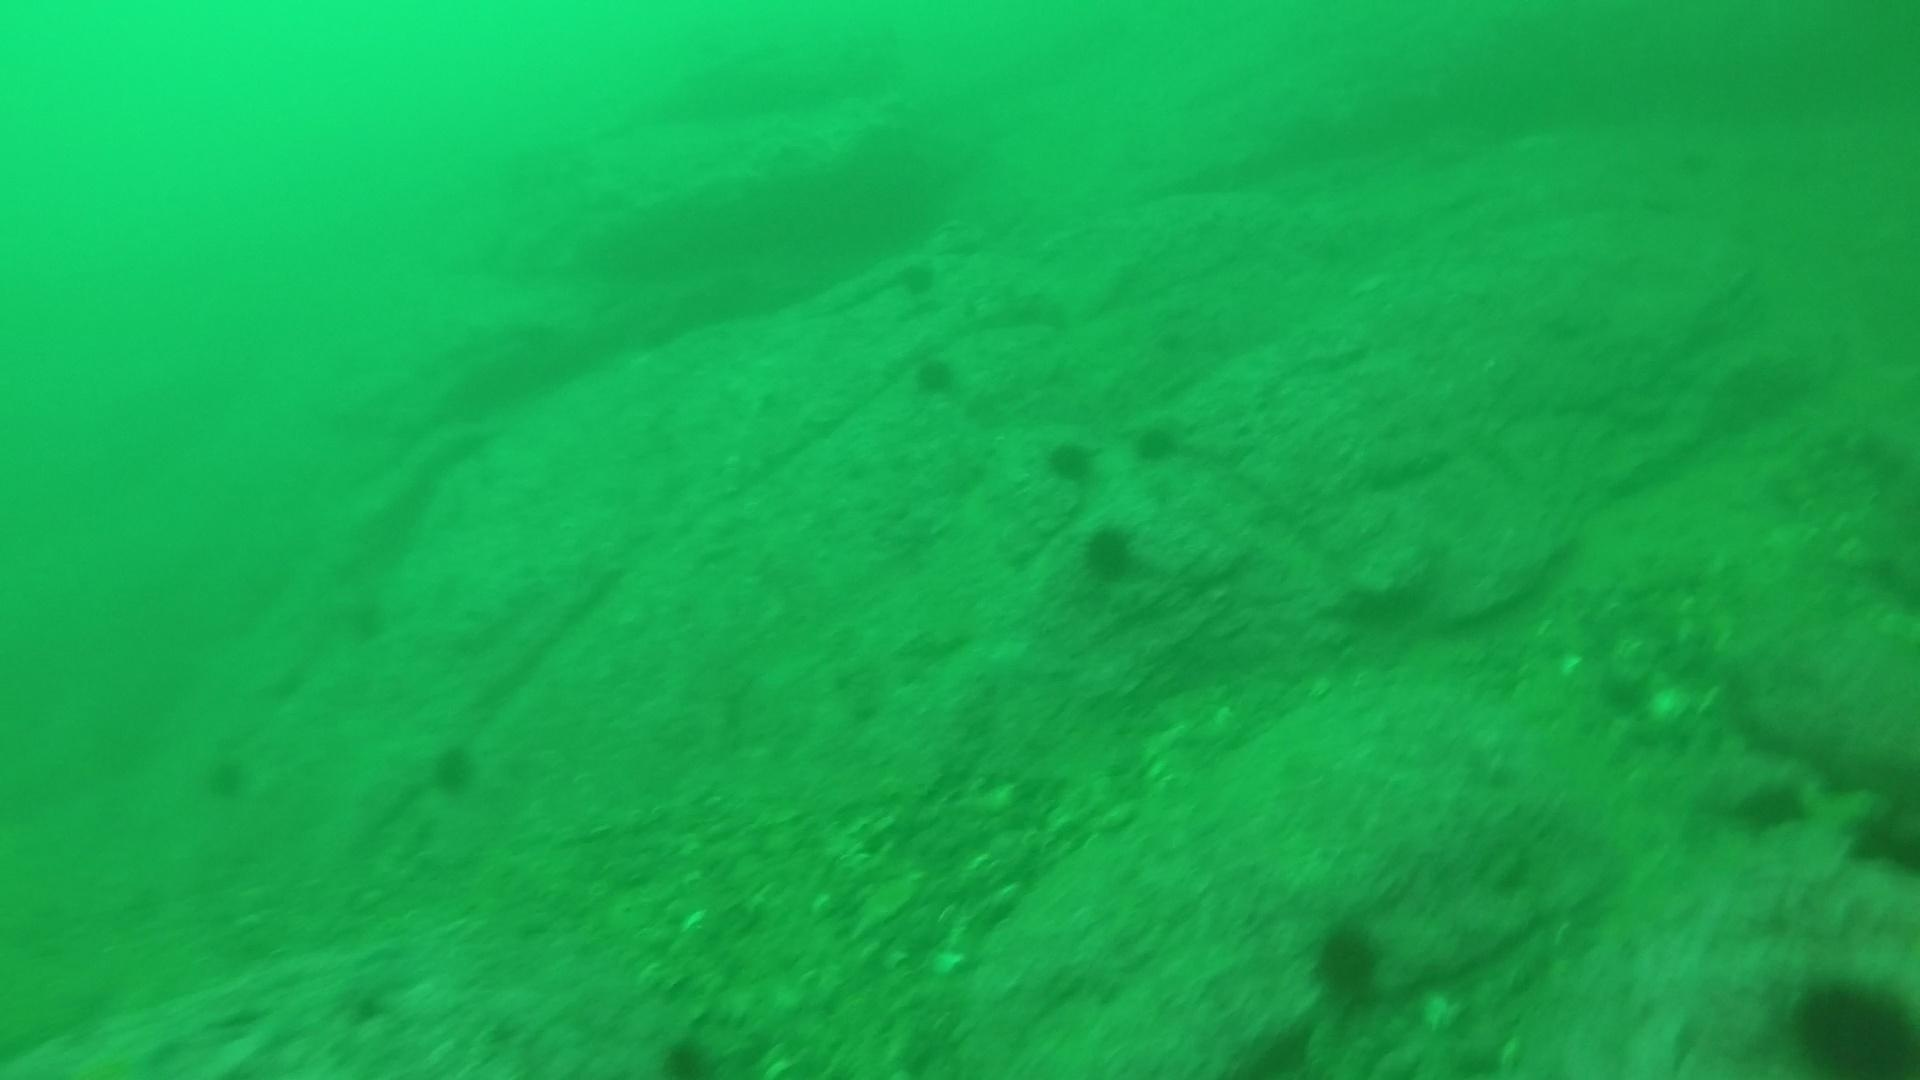echinus: (1784, 967, 1919, 1073), (1304, 913, 1391, 1007), (1840, 795, 1919, 881), (1730, 771, 1815, 839), (1073, 520, 1145, 585), (422, 736, 485, 799), (1039, 431, 1102, 488), (196, 746, 256, 804), (906, 347, 964, 401), (1127, 414, 1187, 467), (893, 255, 943, 302)
